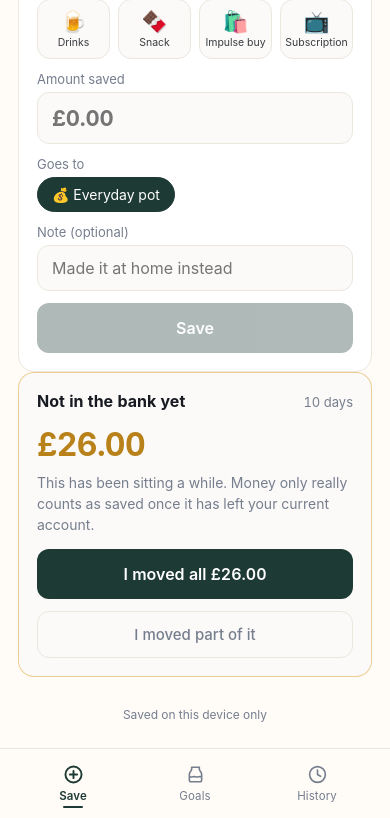
Test: gerçek aktarım › aktarımı onaylayınca bekleyen kalmaz
(page scrolled)
What coordinates should you click on to do the following:
click the button "I moved all £26.00"
I would click on:
 (195, 574)
Its box is [37,549,353,599].
(page scrolled)
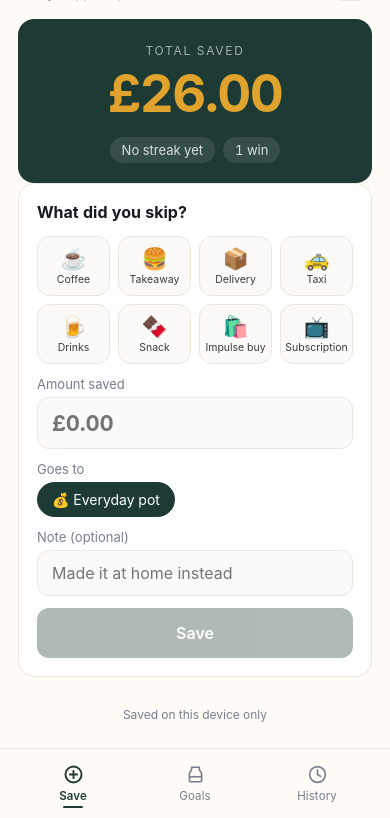
Now the heading "Not in the bank yet" is gone
What coordinates should you click on to do the following:
click the button "History"
I would click on:
 (317, 782)
Its box is [256,755,378,808].
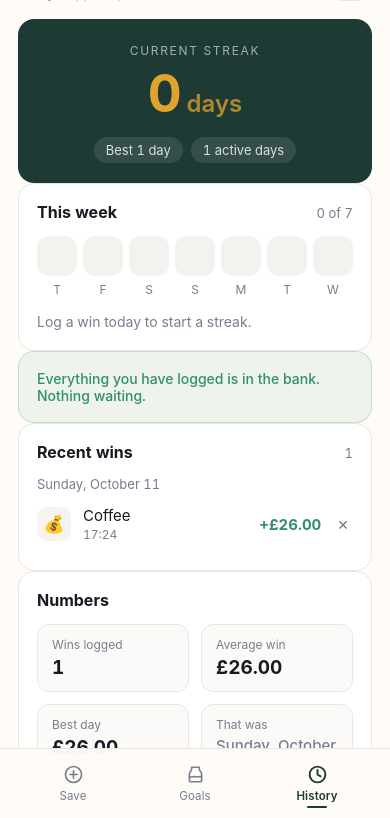
Now the text "Everything you have logged is in the bank. Nothing waiting." is shown, box [37,370,353,404]
